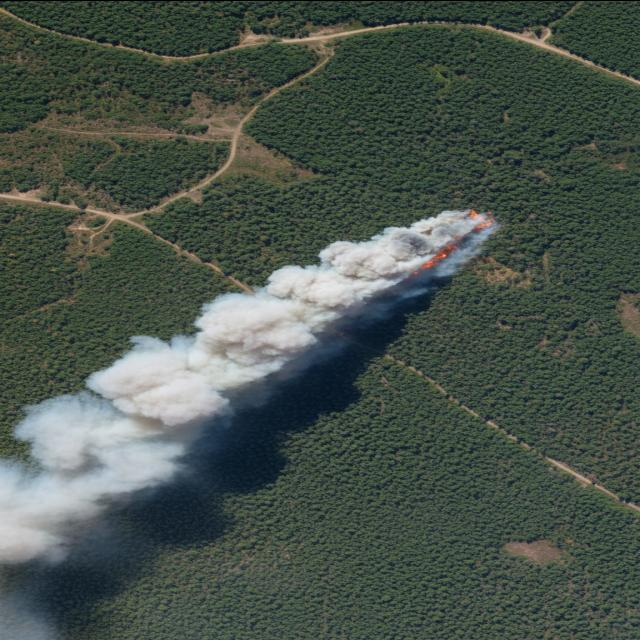wildfire: (257, 195, 502, 334)
